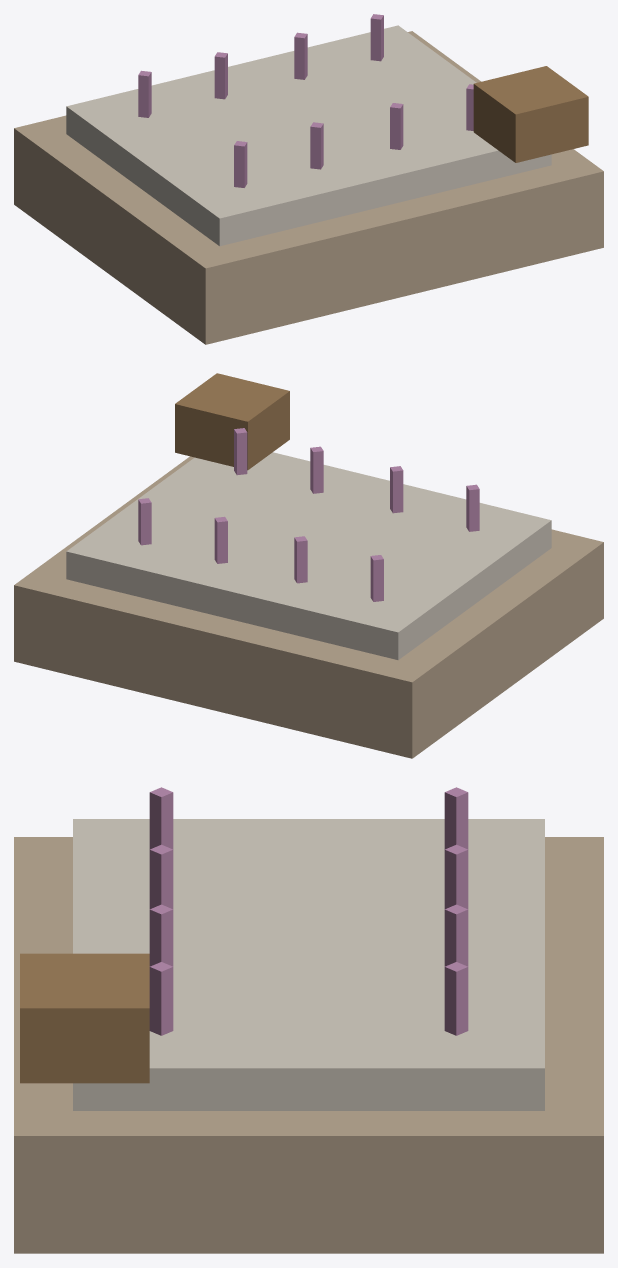
File: city-g0.glb
3 views of the same model, one above another, from view 1: azimuth 30°, elevation 25°; view 2: azimuth 150°, elevation 25°; view 3: azimuth 270°, elevation 25° (orthographic). The views are drawn at different scales.
Visible parts, largest first — view 1: city-g0; view 2: city-g0; view 3: city-g0.
Boxes of the visible parts, x1,y1,x2,y2 form: city-g0: (14,14,603,344); city-g0: (14,373,603,758); city-g0: (14,787,603,1253).
Size of the model in its own units: 1.2 by 0.44 by 1.
